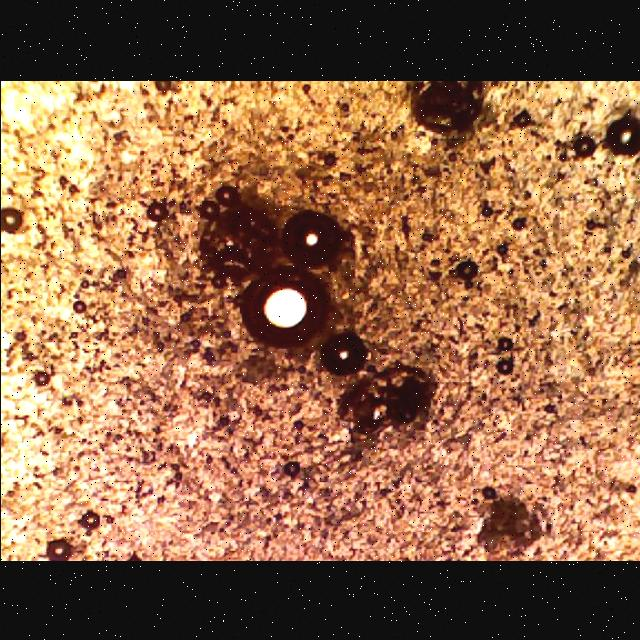Fragment: (402, 80, 502, 142)
microbeads: (238, 260, 332, 350), (274, 208, 356, 280), (598, 113, 640, 161)
